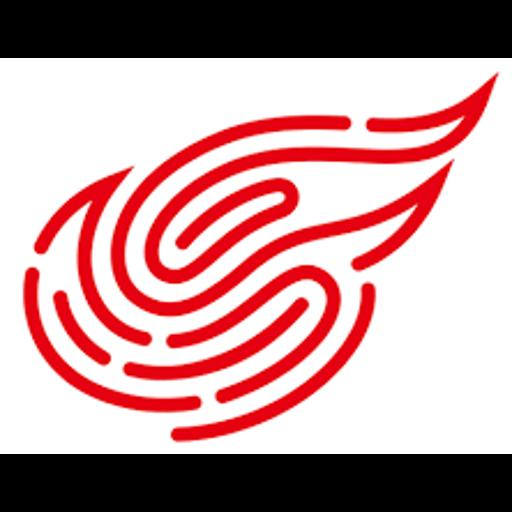NetEase: (0, 58, 512, 454)
